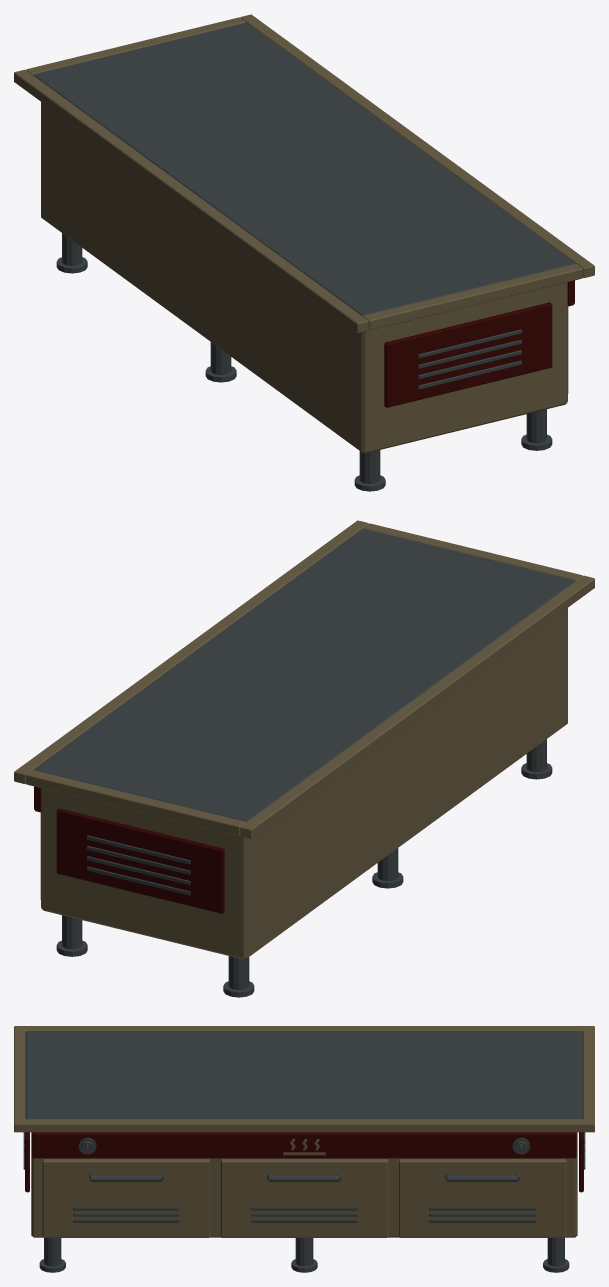
Rendered from SM_Kitchen_A.fbx.
3 renders of one model, top to bottom at view 1: azimuth 30°, elevation 25°; view 2: azimuth 150°, elevation 25°; view 3: azimuth 270°, elevation 25°, orthographic. The views are drawn at different scales.
Visible parts, largest first — view 1: SM_Kitchen_A; view 2: SM_Kitchen_A; view 3: SM_Kitchen_A.
Boxes of the visible parts, x1,y1,x2,y2 form: SM_Kitchen_A: [14, 14, 594, 491]; SM_Kitchen_A: [14, 520, 594, 997]; SM_Kitchen_A: [14, 1026, 594, 1272].
Size of what is drawn, in the model's own units: 300 by 120 by 90.
